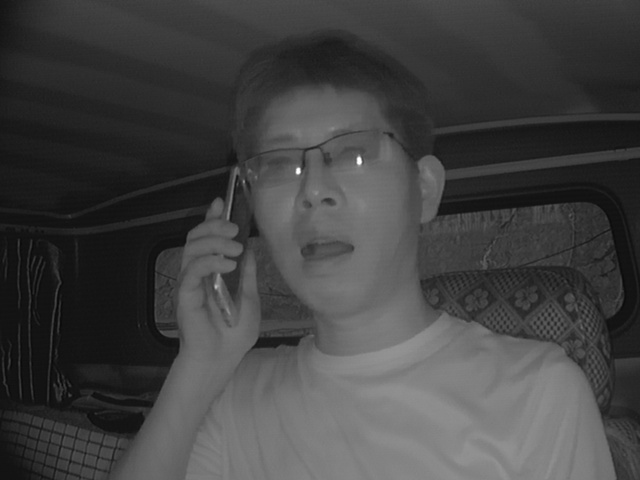hand: (174, 199, 268, 358)
